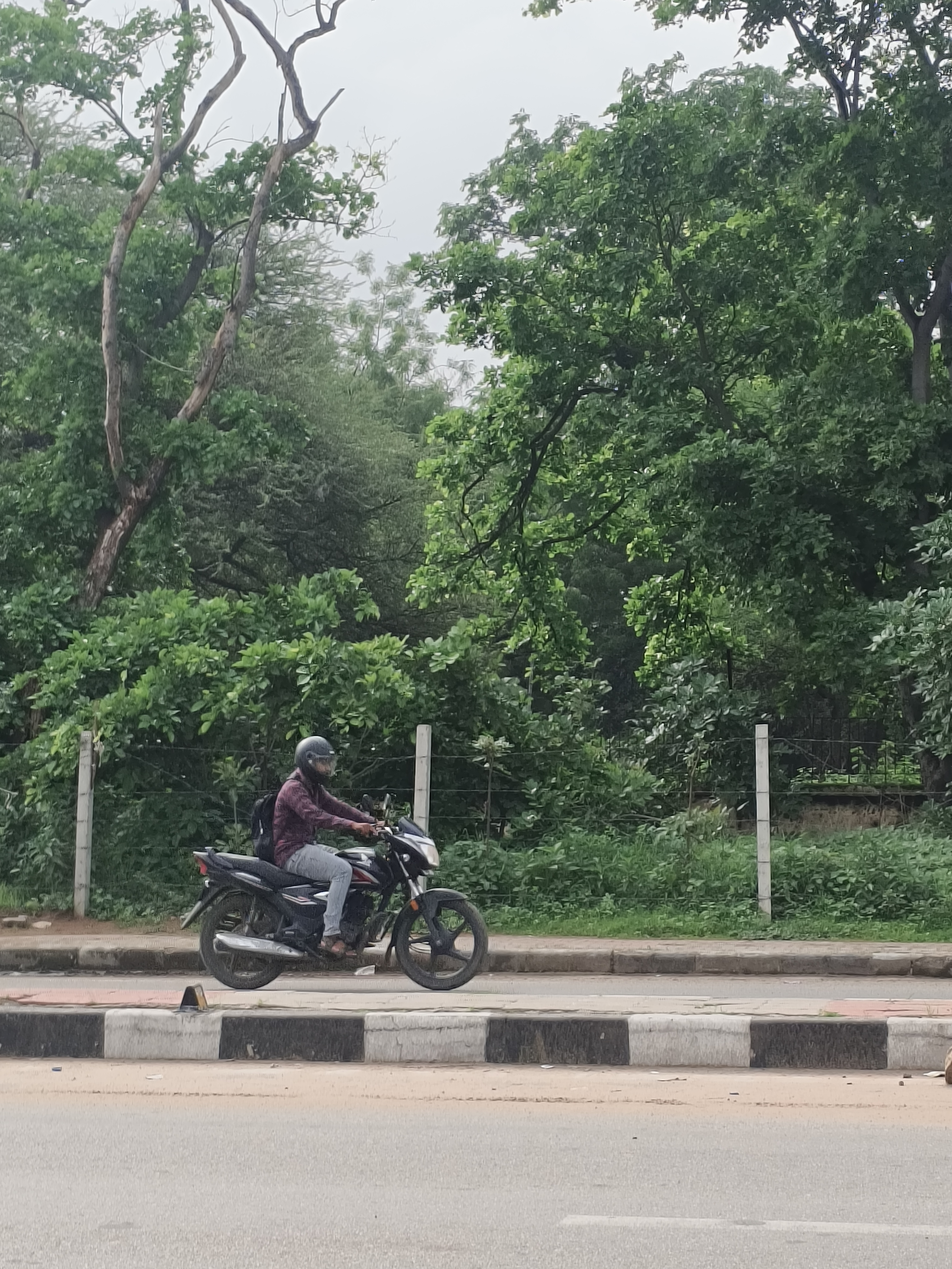BikeWithRider: (166, 724, 511, 1002)
Helmet: (293, 735, 348, 796)
